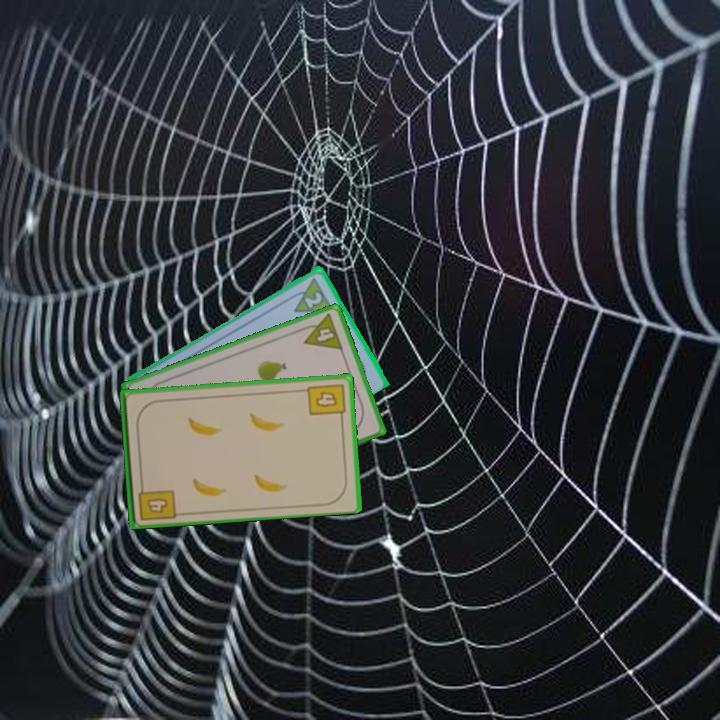2p: (301, 288, 325, 311)
4b: (134, 478, 178, 523), (304, 380, 348, 423)
4p: (296, 310, 346, 353)
